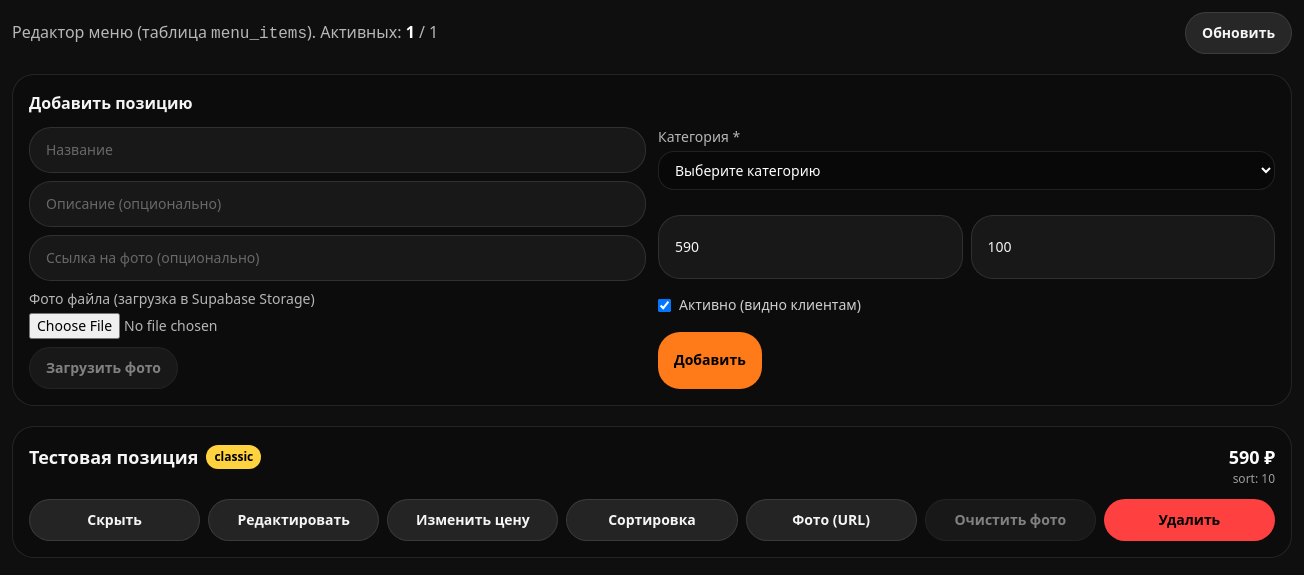
AdminMenuPage › shows explicit migration error for invalid enum during edit
The image size is (1304, 575).
Expected: the text "Тестовая позиция" is shown, top-left (29, 443), bottom-right (198, 471)
Click the button "Редактировать".
click(294, 520)  # box top-left (208, 499), bottom-right (379, 541)
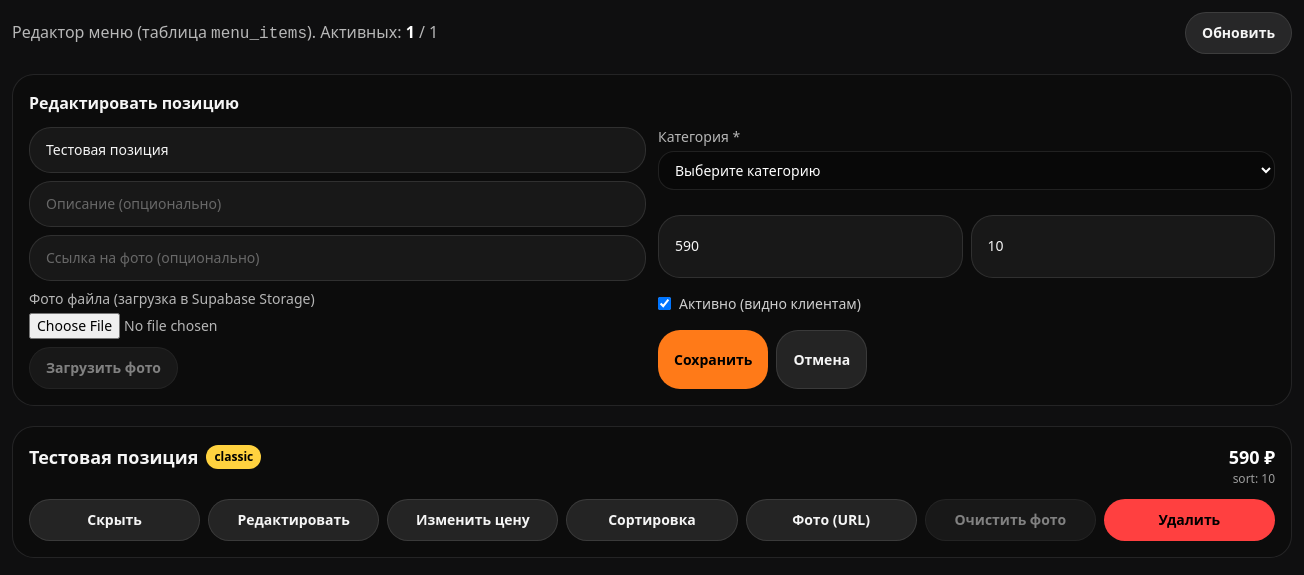
Click the button "Сохранить".
click(713, 360)  # box top-left (658, 330), bottom-right (768, 389)
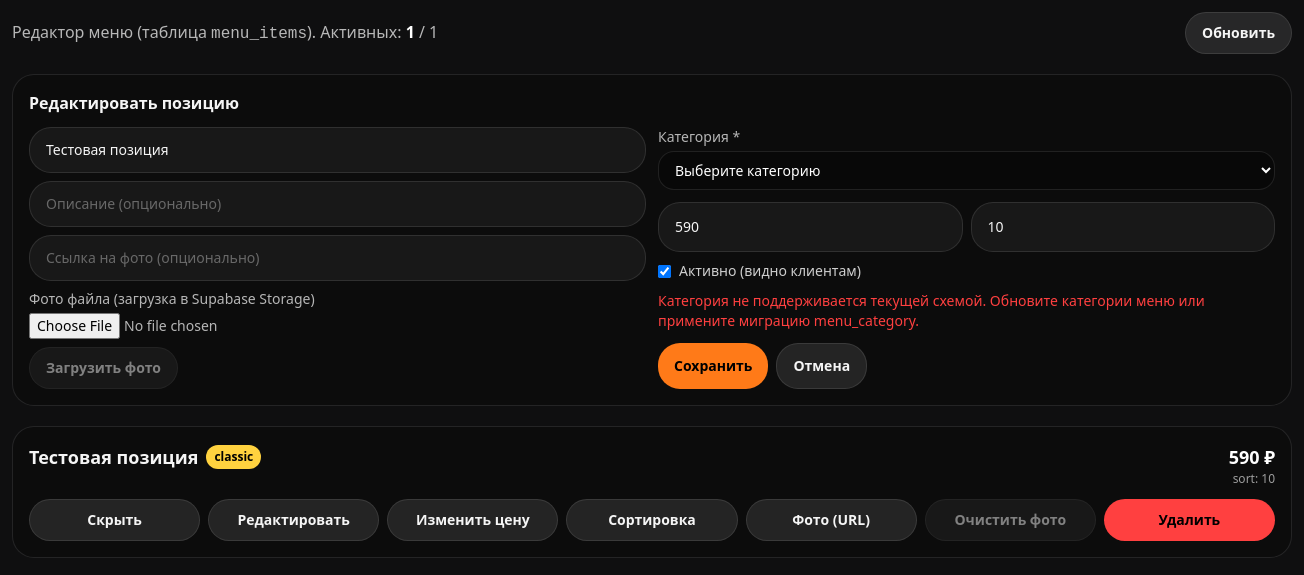
Result: the text "Категория не поддерживается текущей схемой. Обновите категории меню или примените миграцию menu_category." is shown at top-left (658, 291), bottom-right (1205, 330)
